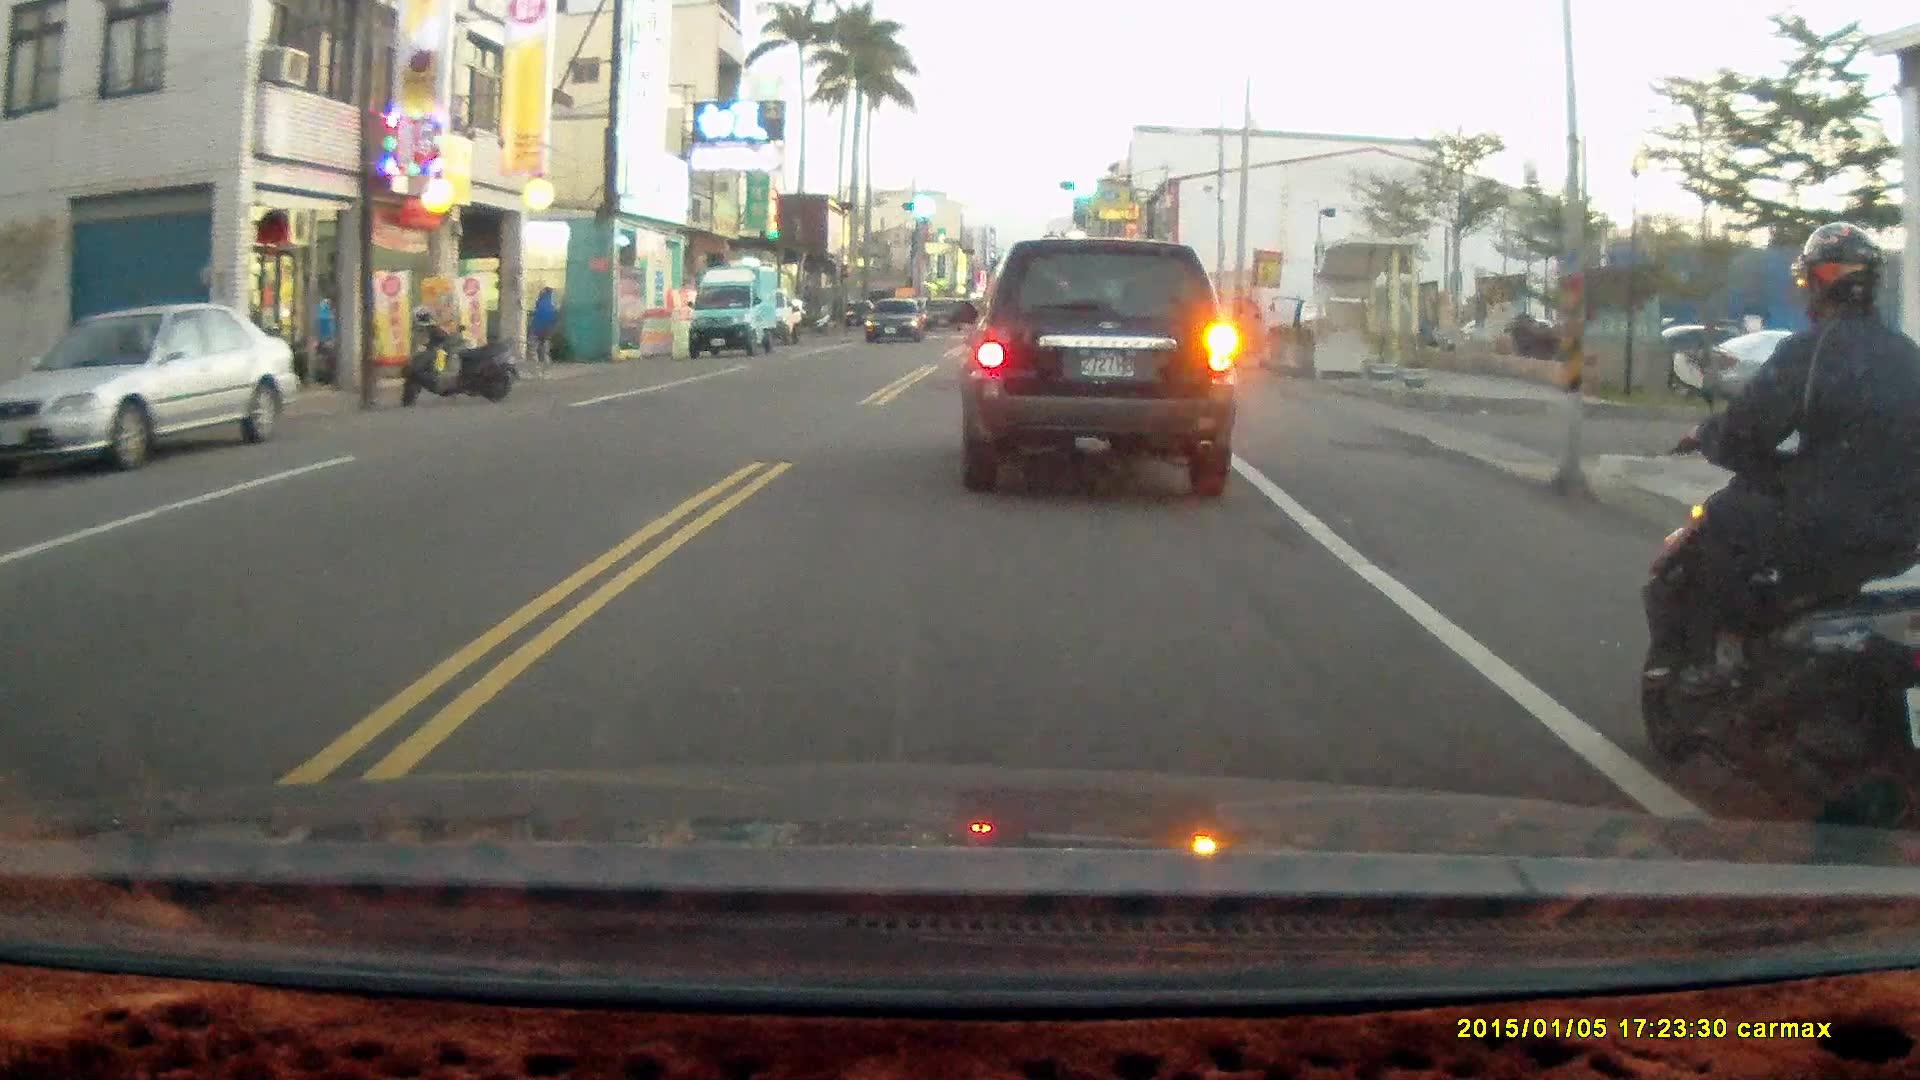pedestrian: (524, 283, 557, 381)
rider: (1635, 220, 1920, 865)
vehicle: (958, 236, 1239, 503), (3, 305, 297, 474), (687, 261, 783, 360), (862, 297, 927, 344)
